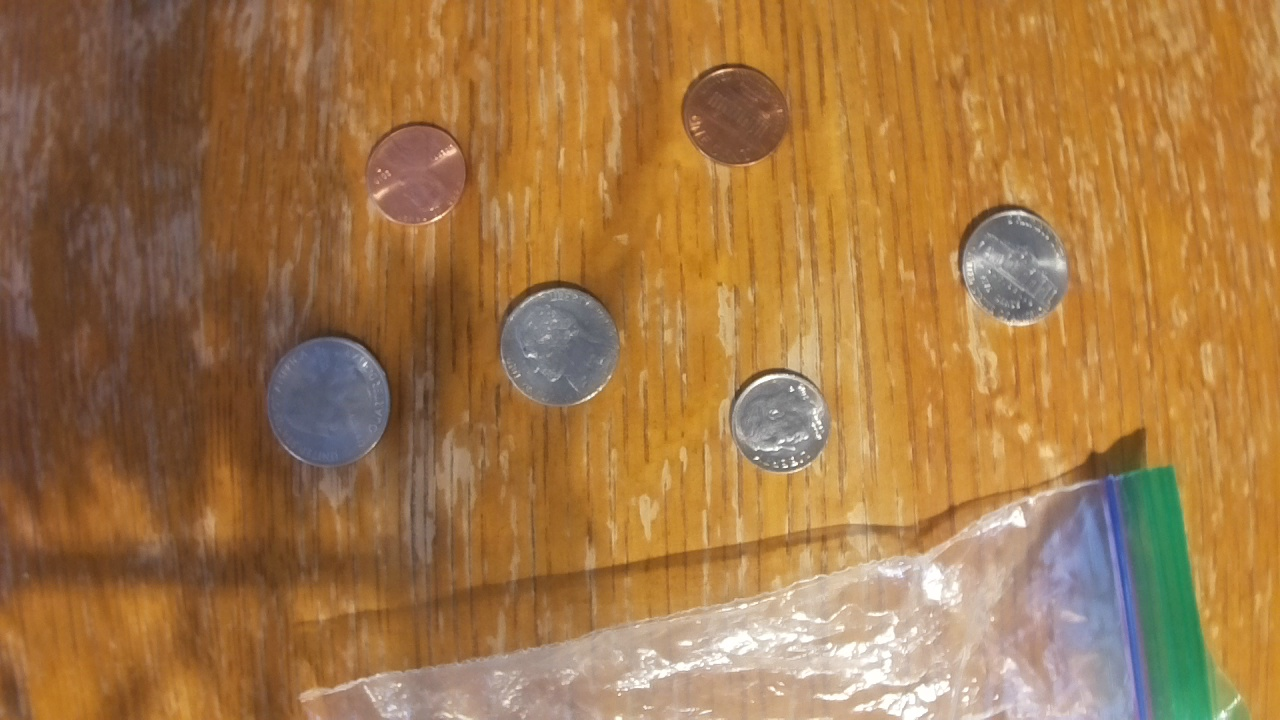dime: (727, 366, 829, 472)
nickel: (499, 283, 624, 408), (956, 204, 1071, 328)
penny: (680, 61, 791, 167), (365, 122, 471, 225)
quarter: (264, 335, 388, 468)
